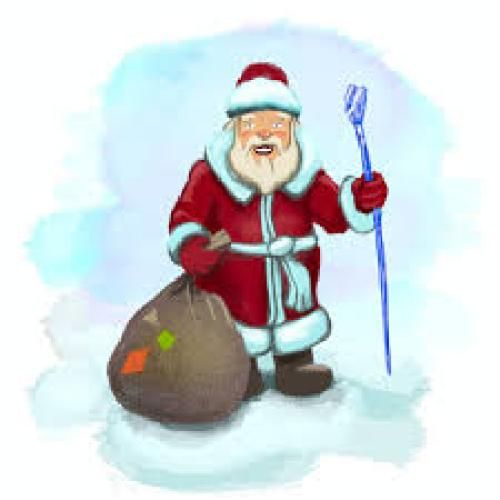Santa: (166, 61, 387, 398)
